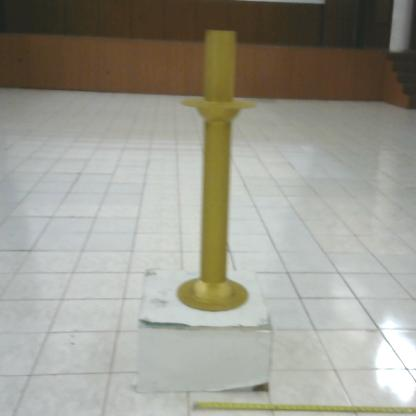pole: (173, 27, 261, 322)
